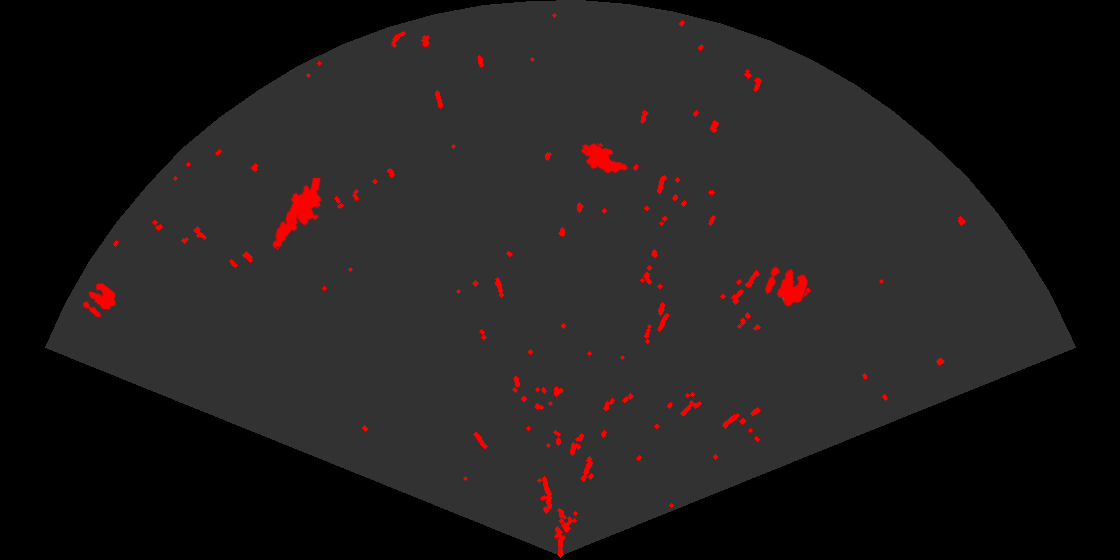AUV: (579, 142, 630, 175)
ball: (763, 264, 810, 308), (81, 282, 117, 319)
frogman: (271, 178, 323, 250)
